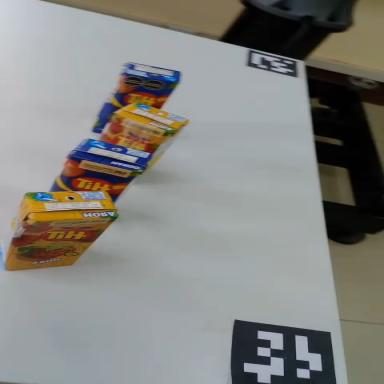HIT-MANGO: (81, 43, 184, 156), (50, 132, 153, 214)
HIT-MORA: (0, 188, 120, 271), (100, 95, 189, 165)
cara_F: (86, 54, 179, 156), (3, 214, 121, 271), (50, 154, 141, 211), (101, 111, 168, 162)
